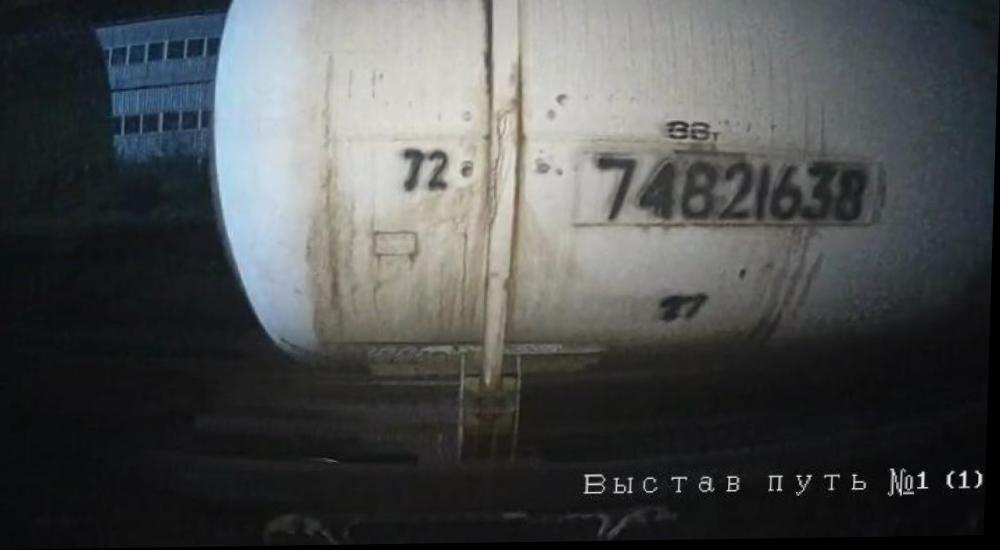Wagon-number: (581, 153, 877, 234)
